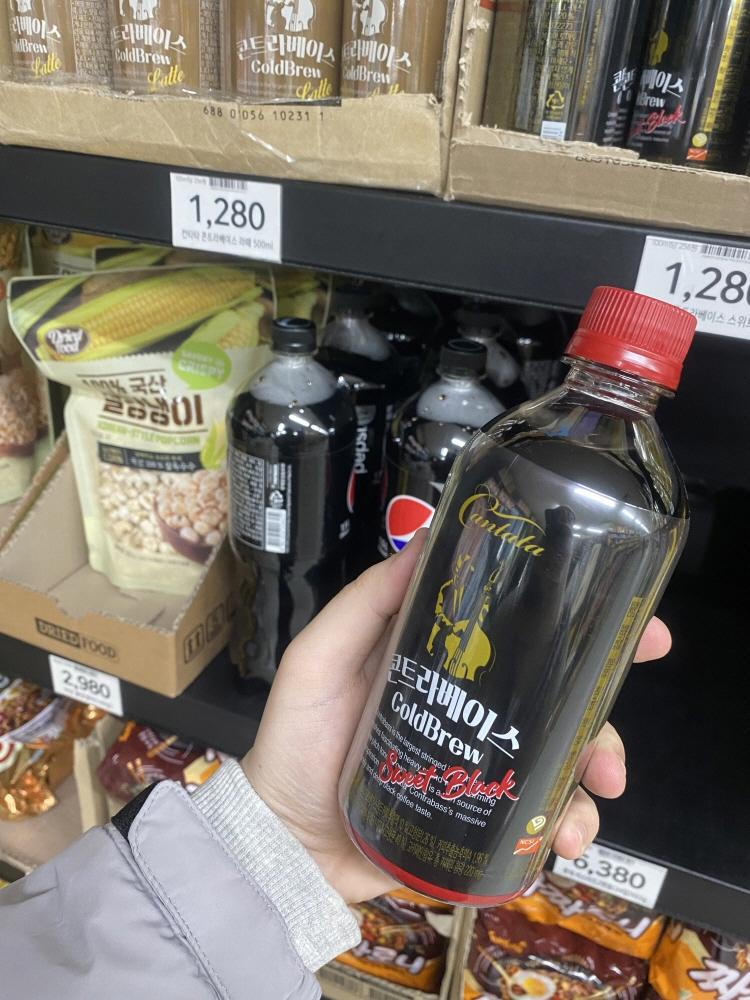contrabass_sweetblack: (394, 329, 685, 897)
